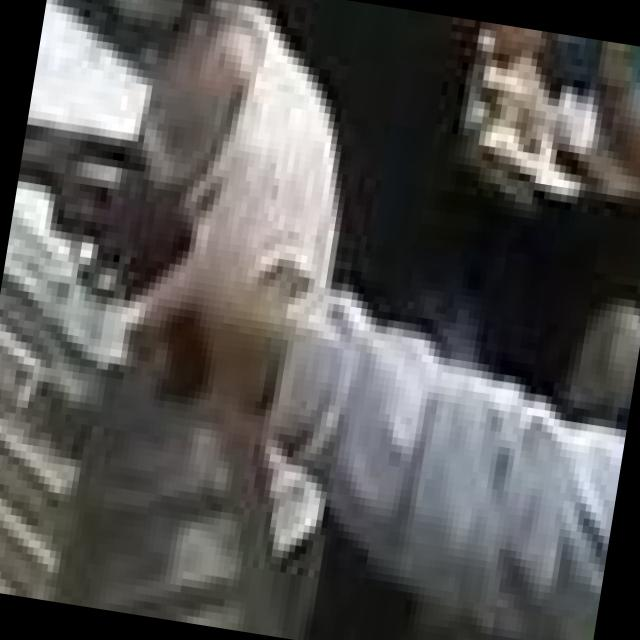Guns: (0, 70, 317, 465)
